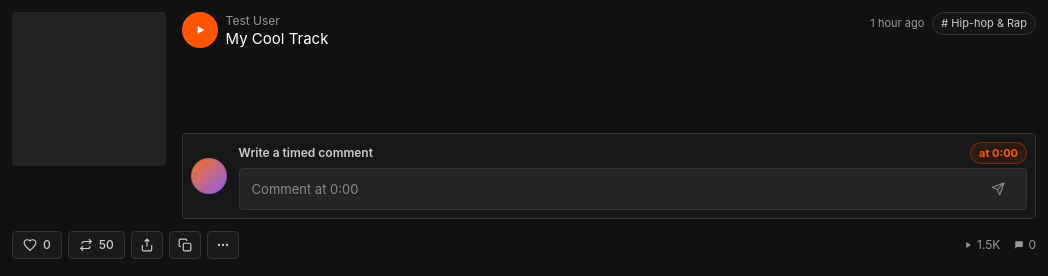
ProfileTrackCard › toggles repost count immediately on user click
The image size is (1048, 276).
Click the button with test id "track-card-repost-button": (96,245) [68,231,125,259]
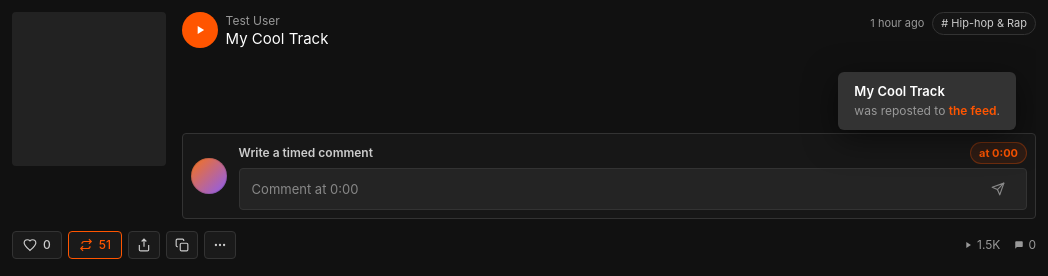
Now the button with test id "track-card-repost-button" reads "51", box [68,231,122,259]
